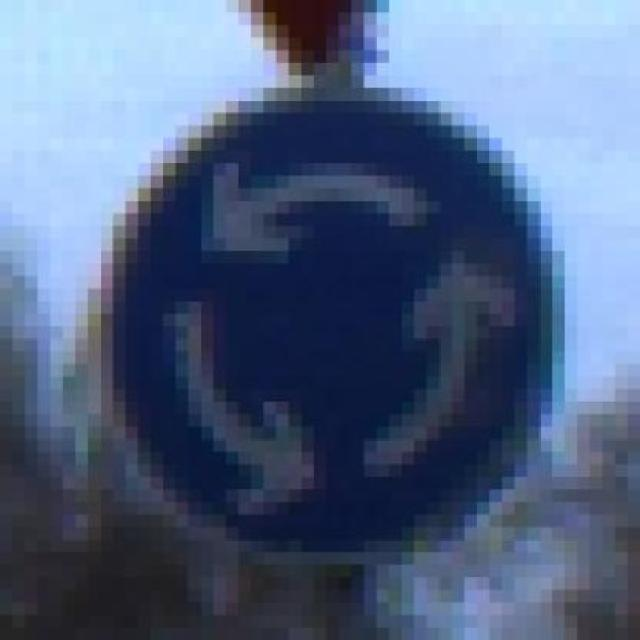Round-About: (62, 62, 590, 566)
